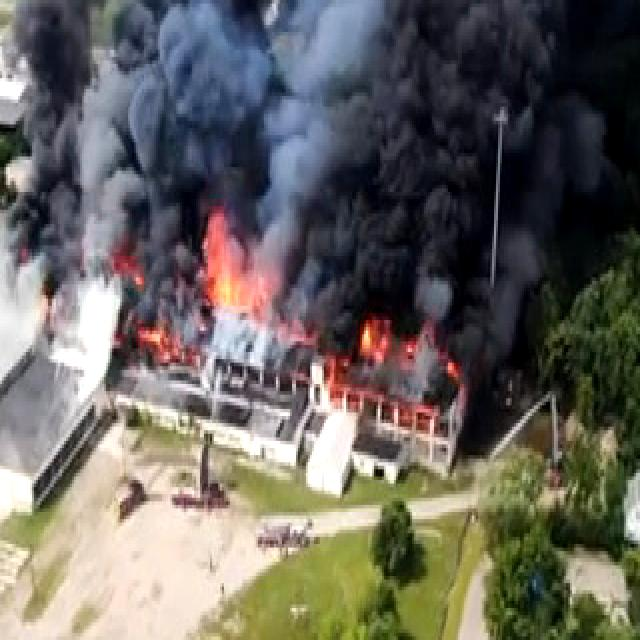fire: (202, 211, 265, 323)
smoke: (366, 0, 588, 302), (264, 0, 382, 263), (145, 3, 264, 216), (8, 0, 84, 284), (84, 58, 150, 285)
